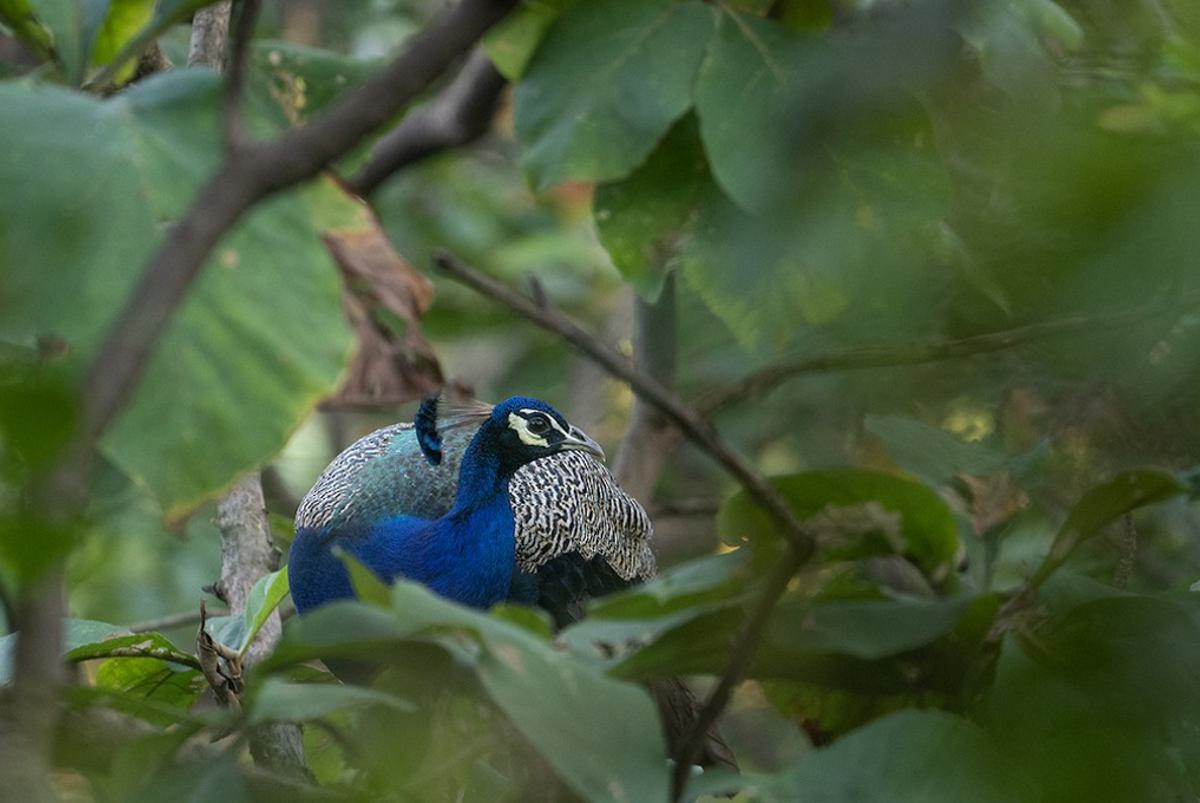peacock: (250, 354, 670, 656)
